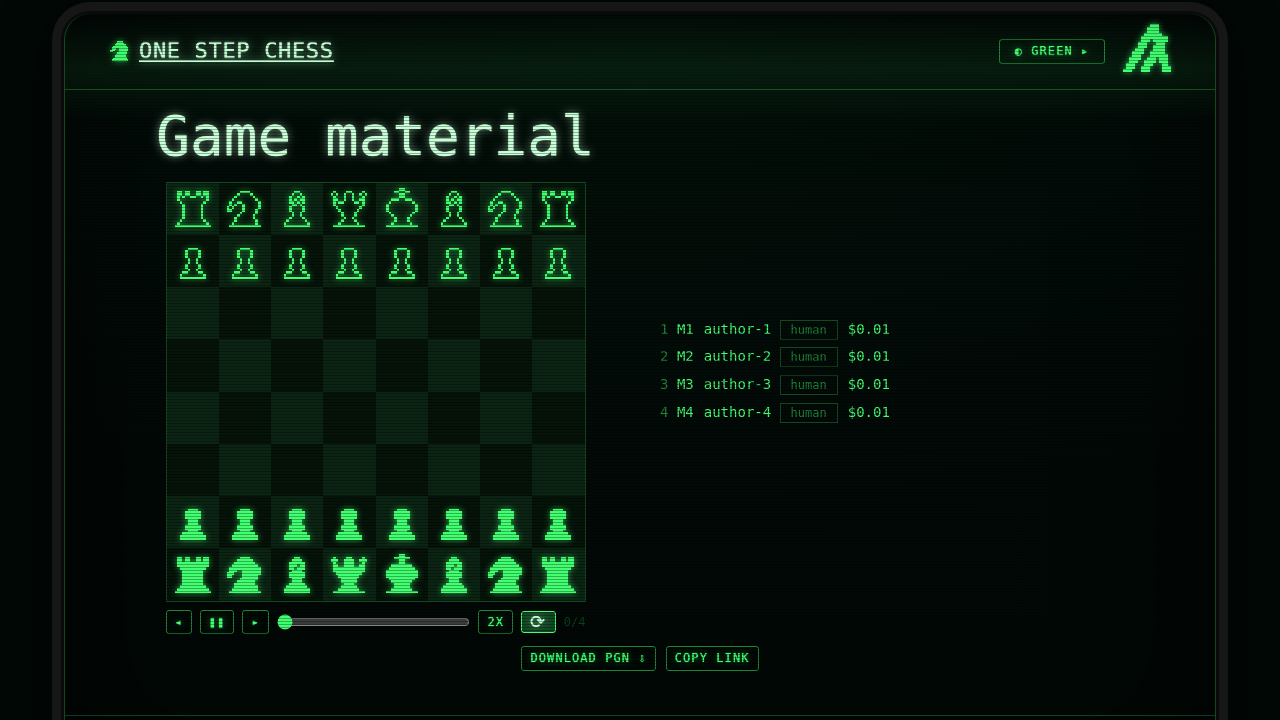
Test case: shareable_replay_explains_a_material_win_on_the_final_board
Set the slider named "scrub plies" to "4" at [462, 622], box [277,614,470,630]
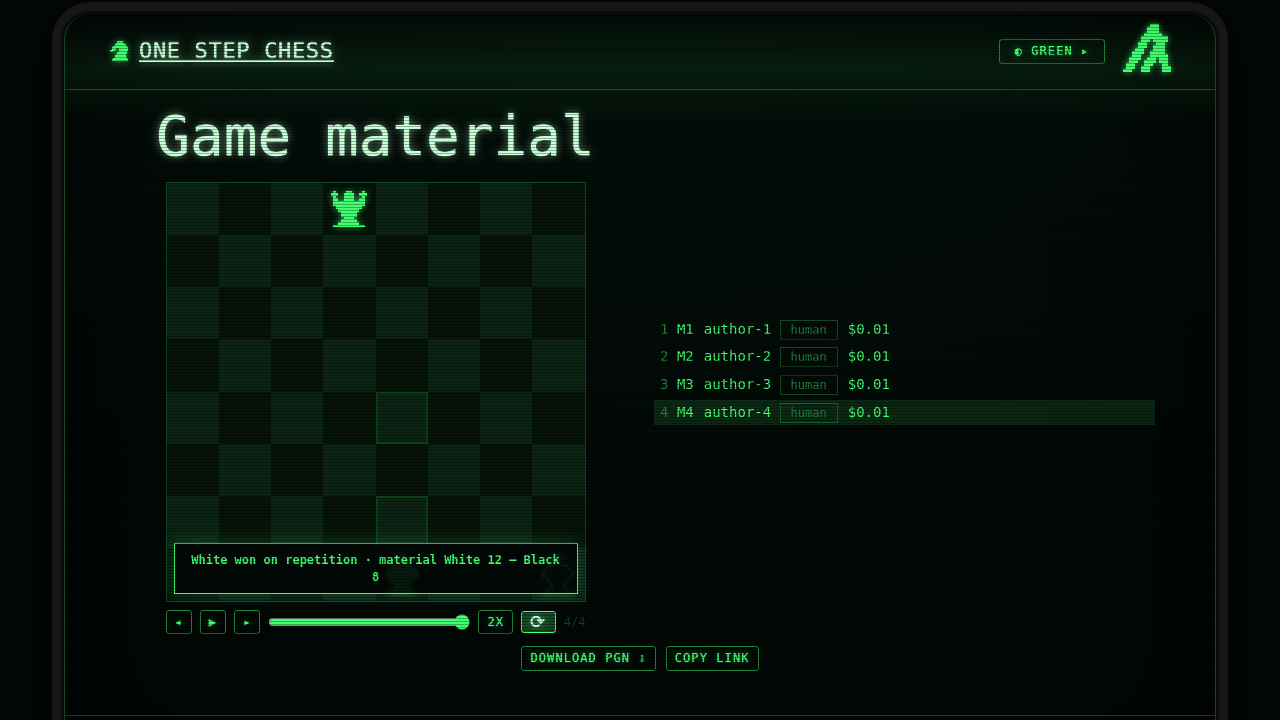
expect the message with test id "replayer-final-notice" reads "White won on repetition · material White 12 – Black 8": met, box [191,553,560,584]
